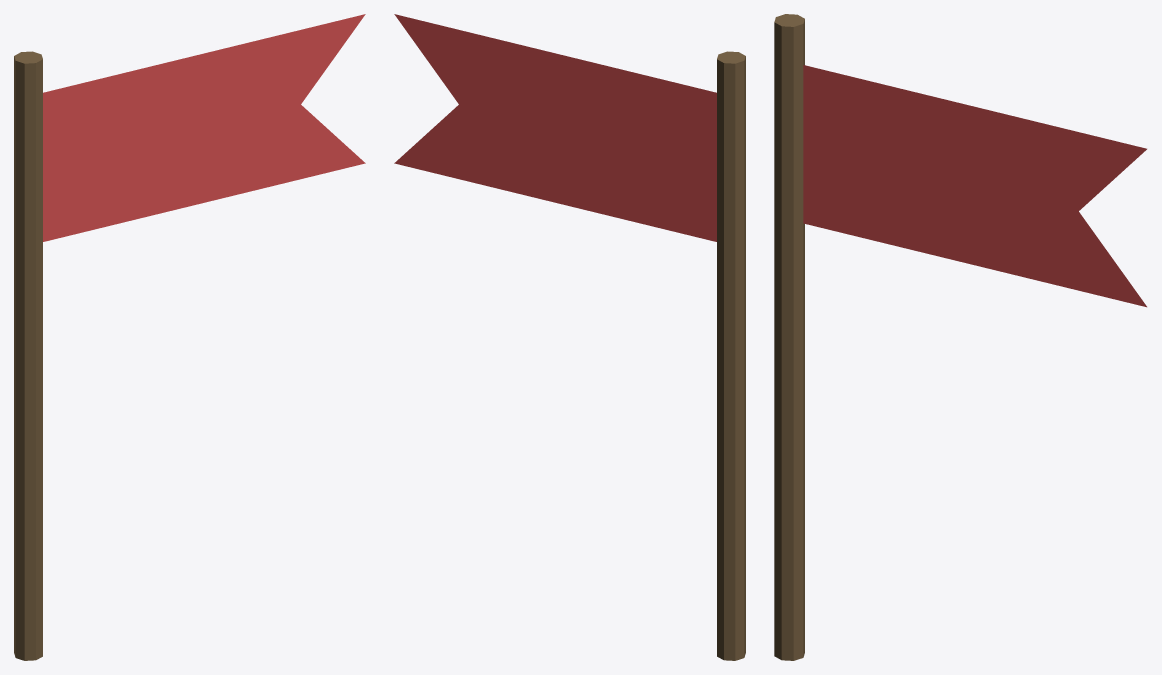
File: flag.glb
3 views of the same model, side by side, from view 1: azimuth 30°, elevation 25°; view 2: azimuth 150°, elevation 25°; view 3: azimuth 330°, elevation 25° (orthographic). The views are drawn at different scales.
Parts seen in each view (by area): view 1: Flag.001, Pole.001; view 2: Flag.001, Pole.001; view 3: Flag.001, Pole.001.
Part boxes in pixels (bbox=[...]): Flag.001: bbox=[43, 14, 365, 241]; Pole.001: bbox=[14, 51, 42, 660]; Flag.001: bbox=[394, 14, 716, 241]; Pole.001: bbox=[717, 51, 745, 660]; Flag.001: bbox=[803, 65, 1146, 307]; Pole.001: bbox=[774, 14, 804, 660].
Size of the model in its own units: 1.35 by 2.2 by 0.1.
